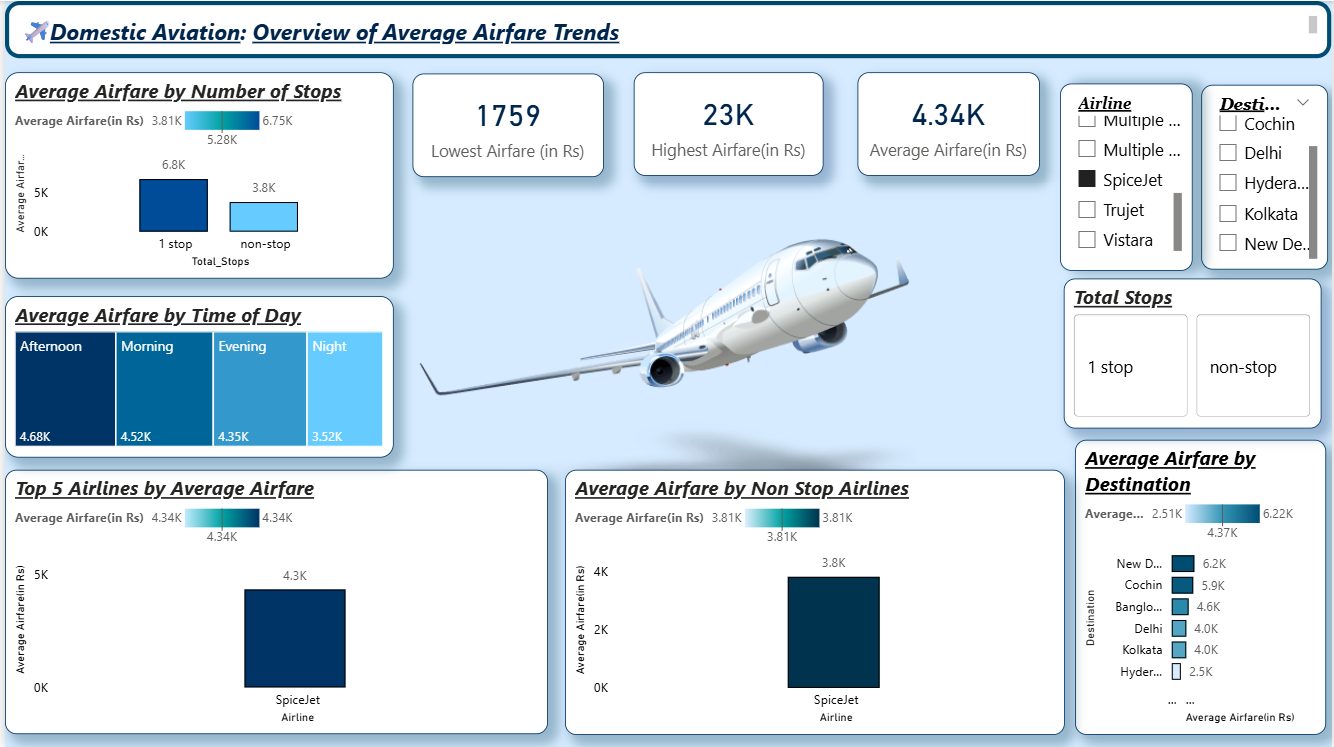

The page's visual inventory and layout, read from the dashboard file:
{"tool":"powerbi","page":{"name":"Page 1","canvas":[1280,720],"ordinal":0},"visuals":[{"type":"clusteredColumnChart","title":"Top 5 Airlines by Average Airfare","fields":{"Category":["Sheet1.Airline"],"Y":["Sheet1.Average Price"]},"box":[0,452.8,524.2,255.2],"z":0},{"type":"clusteredBarChart","title":"Average Airfare by Destination","fields":{"Category":["Sheet1.Destination"],"Y":["Sheet1.Average Price"]},"box":[1032.7,423.5,242.5,284.7],"z":1000},{"type":"treemap","title":"Average Airfare by Time of Day","fields":{"Group":["Sheet1.Time of Day"],"Values":["Sheet1.Average Price"]},"box":[0,284.7,375.2,155.6],"z":2000},{"type":"clusteredColumnChart","title":"Average Airfare by Number of Stops","fields":{"Category":["Sheet1.Total_Stops"],"Y":["Sheet1.Average Price"]},"box":[0,68.8,375.2,199.1],"z":3000},{"type":"clusteredColumnChart","title":"Average Airfare by Non Stop Airlines","fields":{"Category":["Sheet1.Airline"],"Y":["Sheet1.Average Price"]},"box":[540.5,452.4,482.6,255.8],"z":4000},{"type":"card","fields":{"Values":["Sheet1.Average Price"]},"box":[822.8,68.8,176.1,100.1],"z":5000},{"type":"card","fields":{"Values":["Sheet1.Min_price"]},"box":[393.3,70,184.6,100.1],"z":6000},{"type":"card","fields":{"Values":["Sheet1.Max_price"]},"box":[606.8,68.8,183.4,100.1],"z":7000},{"type":"textbox","box":[0,0,1280,55.5],"z":8000},{"type":"slicer","fields":{"Values":["Sheet1.Destination"]},"box":[1154,81,122.1,178.4],"z":9000},{"type":"slicer","fields":{"Values":["Sheet1.Airline"]},"box":[1018.2,79.6,127.6,181.1],"z":10000},{"type":"advancedSlicerVisual","title":"Total Stops","fields":{"Values":["Sheet1.Total_Stops"]},"box":[1021.9,267.8,248.5,144.8],"z":11000}]}

Visuals, with their boxes in screenshot pixels (x1, y1, x2, y2), scaled from the page's 1280x720 canvas onto the 1334x747 screenshot:
"Top 5 Airlines by Average Airfare" clusteredColumnChart: <bbox>0, 470, 546, 735</bbox>
"Average Airfare by Destination" clusteredBarChart: <bbox>1076, 439, 1329, 735</bbox>
"Average Airfare by Time of Day" treemap: <bbox>0, 295, 391, 457</bbox>
"Average Airfare by Number of Stops" clusteredColumnChart: <bbox>0, 71, 391, 278</bbox>
"Average Airfare by Non Stop Airlines" clusteredColumnChart: <bbox>563, 469, 1066, 735</bbox>
card - Sheet1.Average Price: <bbox>858, 71, 1041, 175</bbox>
card - Sheet1.Min_price: <bbox>410, 73, 602, 176</bbox>
card - Sheet1.Max_price: <bbox>632, 71, 824, 175</bbox>
textbox: <bbox>0, 0, 1333, 58</bbox>
slicer - Sheet1.Destination: <bbox>1203, 84, 1330, 269</bbox>
slicer - Sheet1.Airline: <bbox>1061, 83, 1194, 270</bbox>
"Total Stops" advancedSlicerVisual: <bbox>1065, 278, 1324, 428</bbox>
